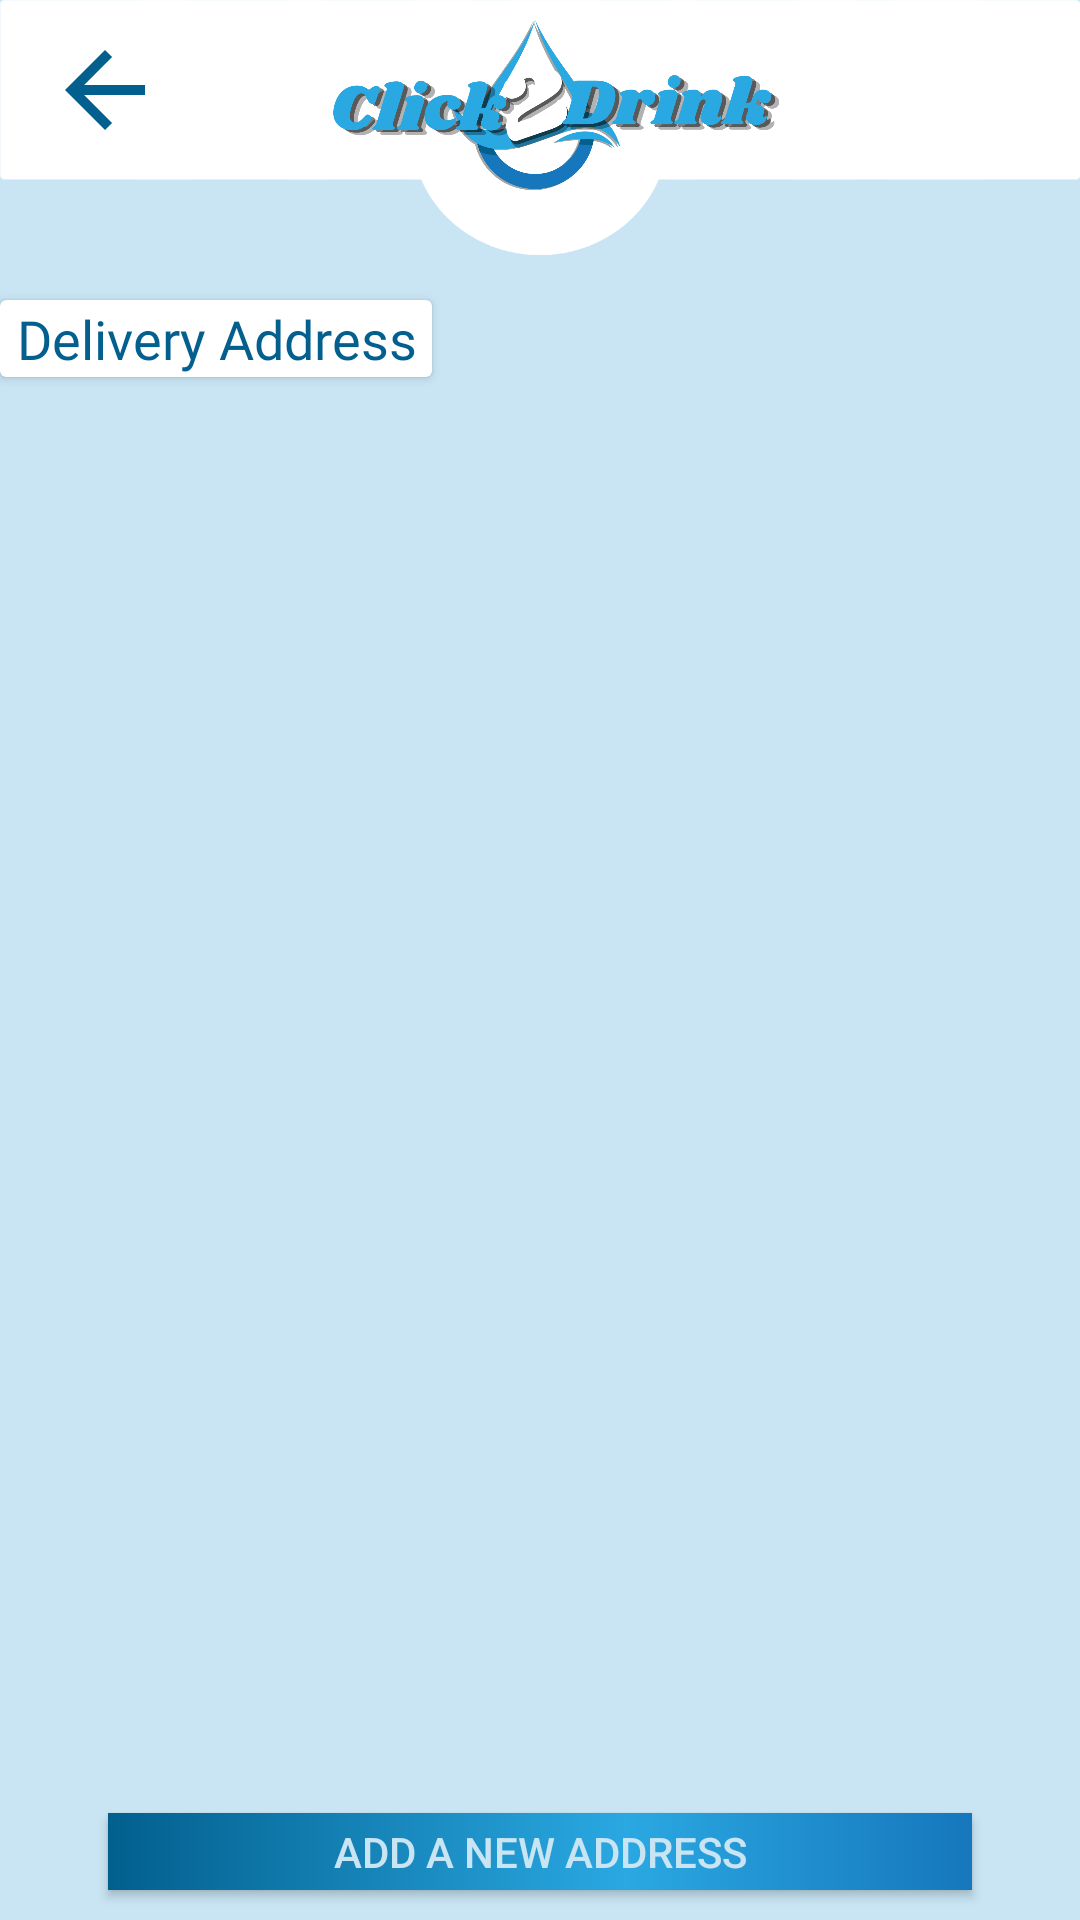

Where icons sit on this 1080w x 1920h app screen, as region(x1, y1, x2, y2):
back: region(65, 50, 145, 130)
